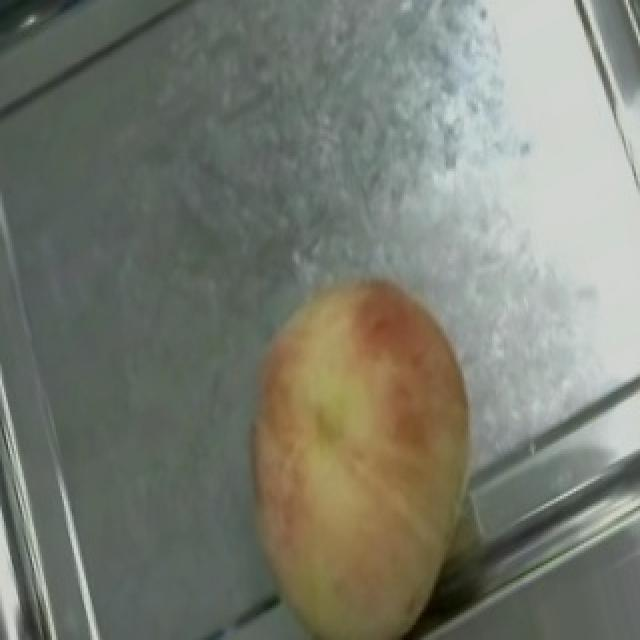Fruit: (216, 238, 518, 563)
